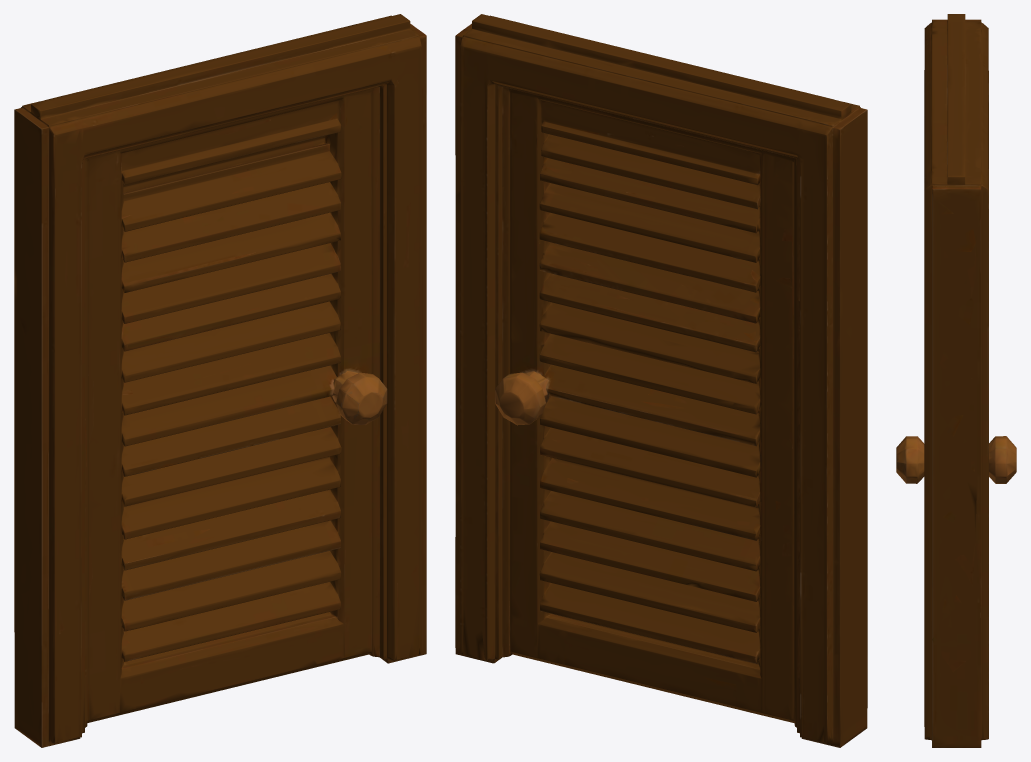
The model's file is door.glb.
3 views of the same model, side by side, from view 1: azimuth 30°, elevation 25°; view 2: azimuth 150°, elevation 25°; view 3: azimuth 270°, elevation 25° (orthographic). The views are drawn at different scales.
Visible parts, largest first — view 1: node_id5; view 2: node_id5; view 3: node_id5.
Part boxes in pixels (x1,y1,x2,y2): node_id5: (14,14,426,747); node_id5: (455,14,867,747); node_id5: (896,14,1016,747).
Size of the model in its own units: 0.328 by 0.512 by 0.0982.
Materials: 1 (1 with a texture image).
